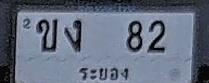2: (148, 20, 166, 52)
8: (126, 20, 142, 51)
A02: (37, 18, 58, 51)
A07: (64, 19, 82, 51)
RYG: (76, 65, 133, 83)
